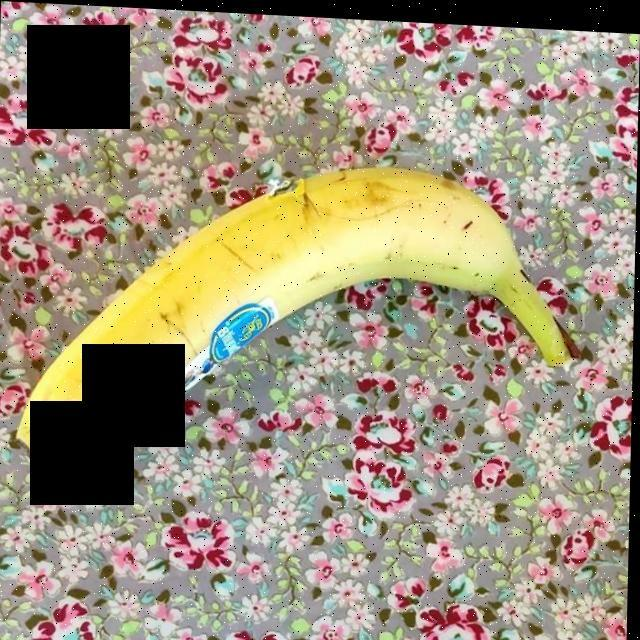banana: (23, 127, 573, 459)
